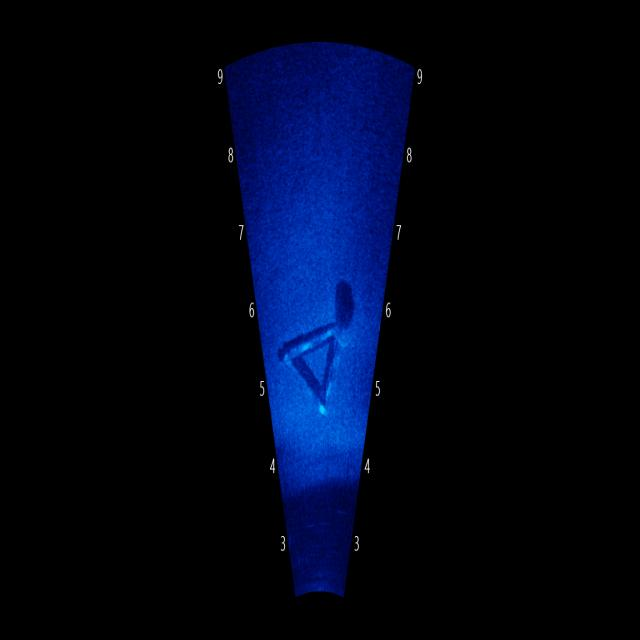triangle: (267, 275, 361, 424)
